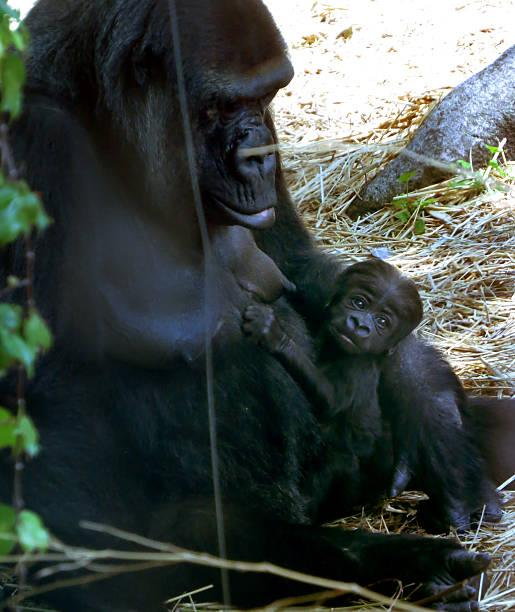gorille_Autres: (28, 0, 457, 579)
